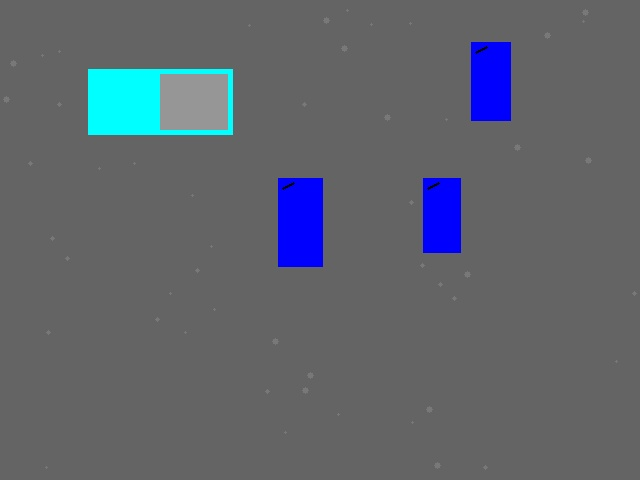motorcycle: (278, 178, 322, 266), (471, 42, 510, 120), (423, 178, 460, 252)
truck: (88, 69, 232, 134)
